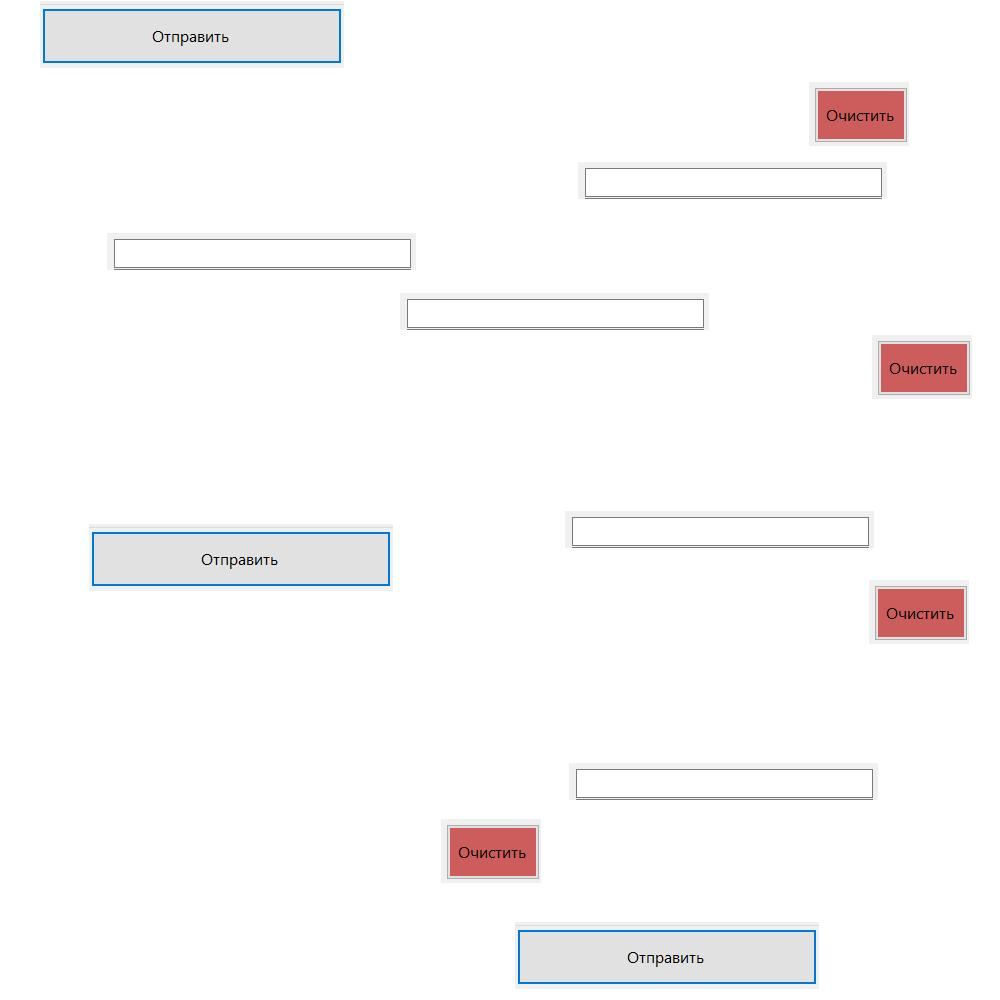Button: (40, 1, 344, 68), (515, 922, 819, 989), (89, 524, 393, 591), (441, 819, 541, 883), (869, 580, 969, 644), (872, 335, 972, 399), (809, 82, 909, 146)
EditText-: (400, 293, 709, 330), (565, 511, 874, 548), (569, 763, 878, 800), (107, 233, 416, 270), (578, 162, 887, 199)
